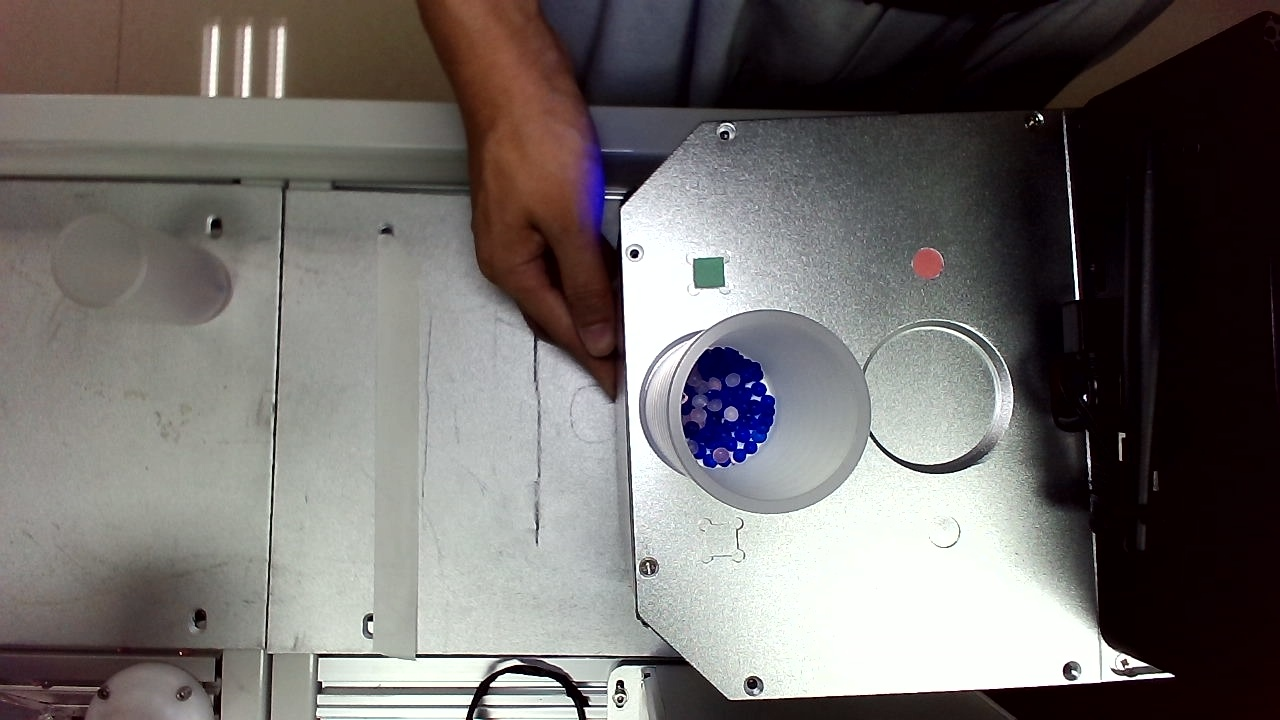bad: (254, 611, 307, 655), (259, 16, 305, 60), (741, 121, 783, 169), (817, 460, 858, 508), (583, 297, 628, 340), (497, 444, 537, 489), (675, 608, 716, 651), (734, 344, 775, 385), (807, 412, 849, 452), (797, 95, 836, 137), (519, 246, 559, 285), (345, 1, 384, 40), (842, 514, 880, 554), (836, 49, 876, 86), (269, 205, 313, 238), (260, 168, 299, 205), (258, 288, 295, 326), (769, 201, 808, 237), (436, 43, 472, 78), (832, 194, 872, 224), (531, 424, 566, 457), (807, 69, 841, 102), (260, 334, 295, 364)
defact: (653, 174, 688, 213)
pass: (567, 147, 615, 197), (551, 391, 596, 443), (261, 526, 304, 569), (818, 545, 863, 585), (263, 408, 306, 449), (287, 568, 330, 609), (515, 391, 554, 435), (435, 393, 476, 434), (716, 573, 754, 616), (695, 443, 731, 486), (566, 609, 604, 649), (853, 556, 895, 592), (687, 211, 723, 252), (689, 145, 724, 187), (782, 233, 824, 266)
toolong: (610, 416, 655, 488), (343, 39, 381, 103), (843, 230, 877, 293)
unpass: (830, 4, 874, 53), (582, 546, 626, 589), (457, 232, 497, 278), (763, 407, 804, 446), (800, 202, 839, 242), (277, 364, 319, 401), (308, 6, 346, 46), (403, 55, 440, 95), (822, 159, 864, 194), (685, 568, 721, 607), (727, 160, 763, 199), (696, 10, 733, 47), (690, 282, 728, 318), (845, 323, 883, 358), (852, 443, 888, 479), (845, 382, 881, 418), (688, 248, 721, 286), (724, 232, 758, 268), (827, 350, 861, 384)
